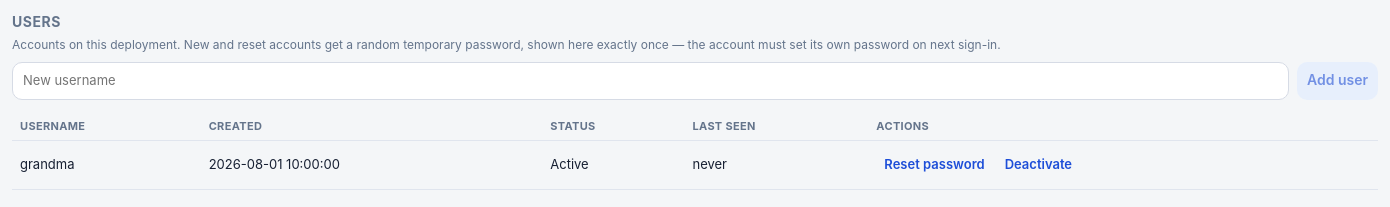
Test: Users › deactivates and reactivates a user
Expected: the text "Active" is shown, [542,140,684,190]
Click the button "Deactivate": (1038, 165) [997,149,1080,180]
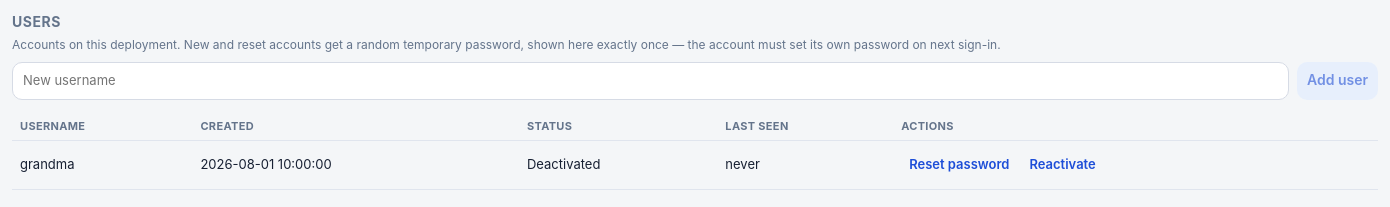
Result: the text "Deactivated" is shown at [519,140,717,190]
Click the button "Reactivate": (1063, 165) [1022,149,1104,180]
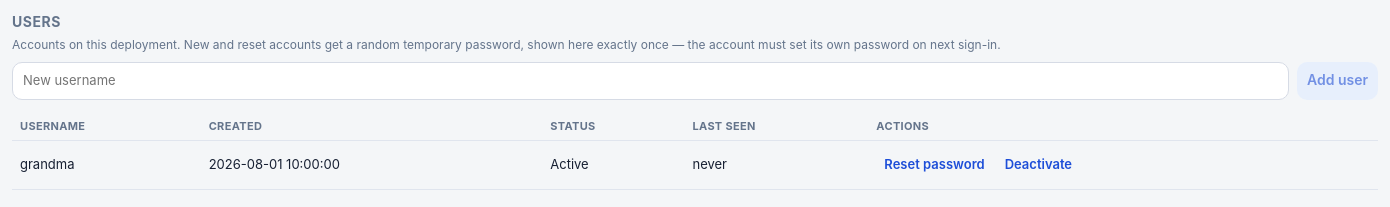
Result: the text "Active" is shown at [542,140,684,190]
